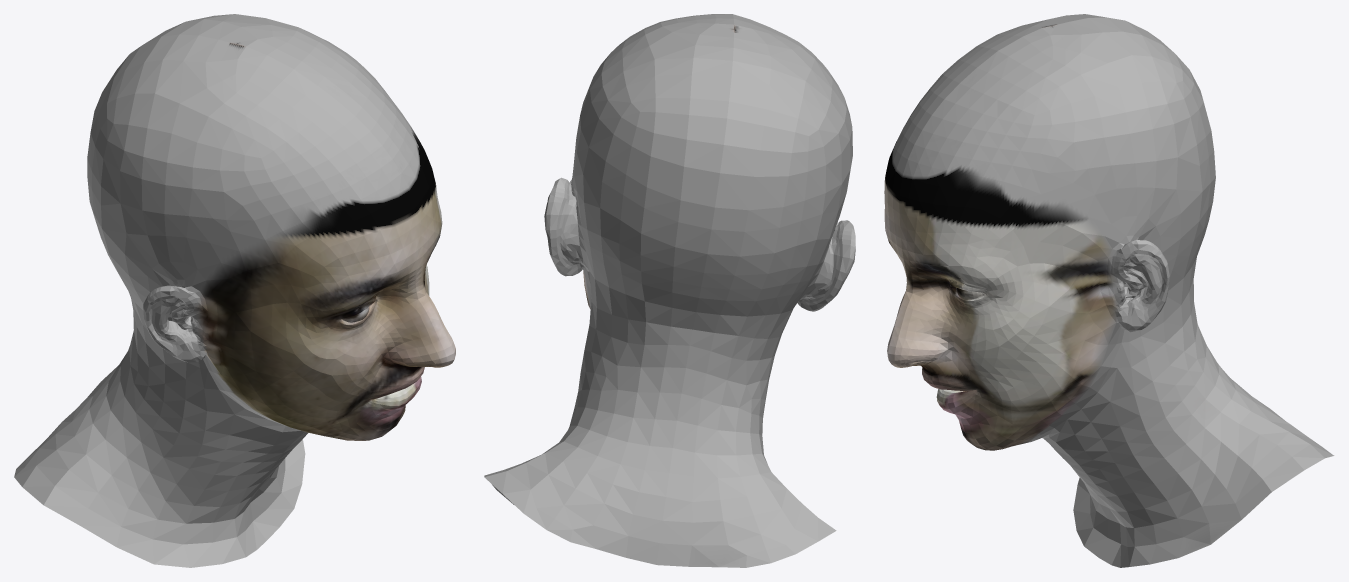
Rendered from ezgif-frame-057.obj.
3 renders of one model, left to right at view 1: azimuth 30°, elevation 25°; view 2: azimuth 150°, elevation 25°; view 3: azimuth 270°, elevation 25°, orthographic. The views are drawn at different scales.
Bounding box in the file's own units: 0.1994 × 0.3235 × 0.2578.
Materials: 1 (1 with a texture image).
